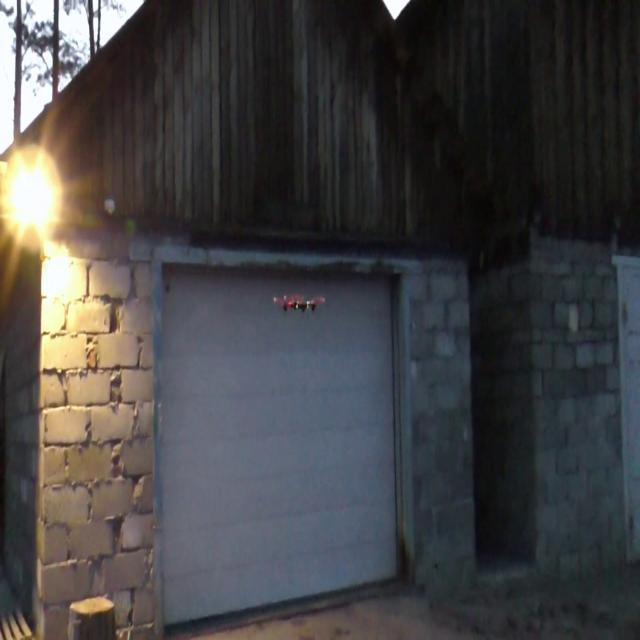Drons: (271, 292, 327, 316)
